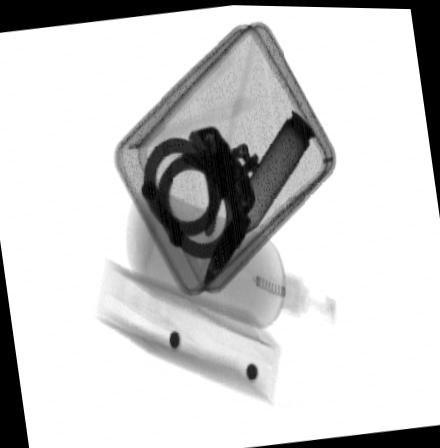Bullet: (204, 107, 316, 285)
HandCuffs: (143, 125, 260, 261)
